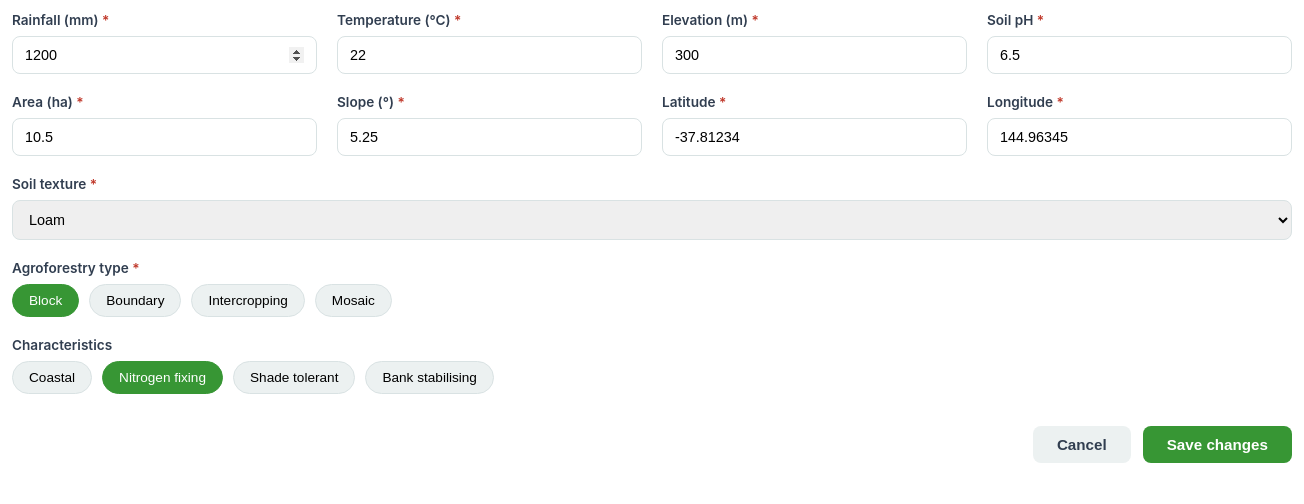
FarmEditForm › clears a validation error after correcting a field
Clear the number field showing "1200" at (164, 55), box [12,36,317,74]
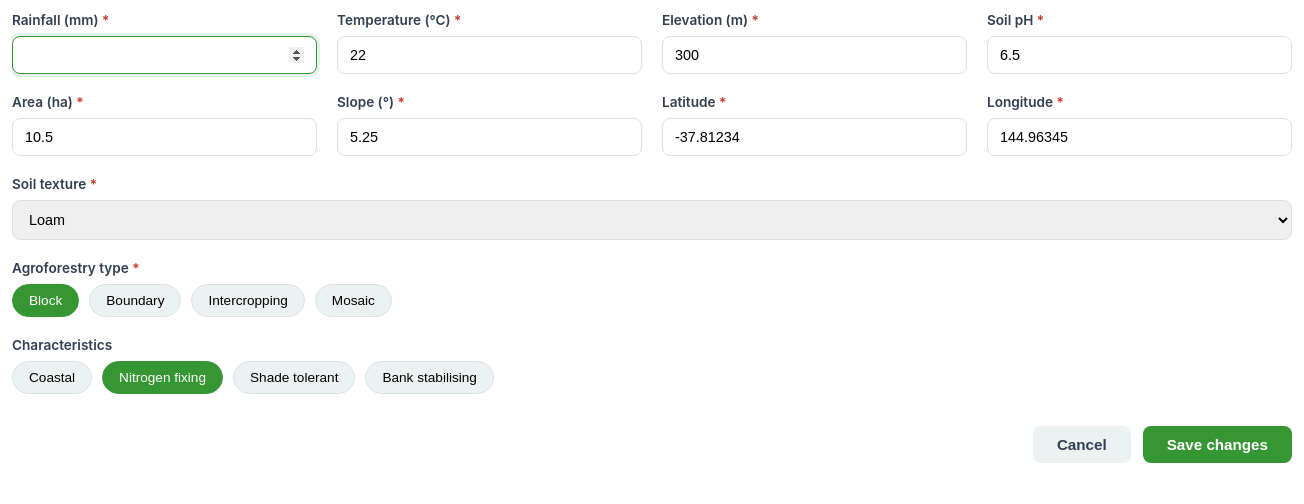
Click the button "Save changes" at (1217, 444), box [1143,426,1292,463]
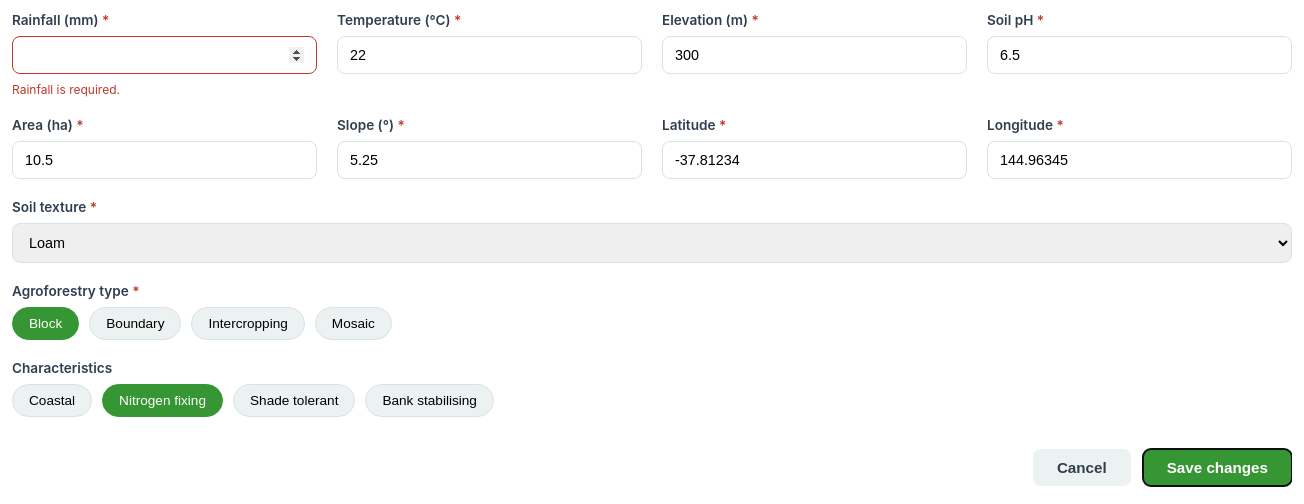
Check: the text "Rainfall is required." is shown, box [12,82,120,97]
Type "900" into the number field showing "1200" at (164, 55), box [12,36,317,74]
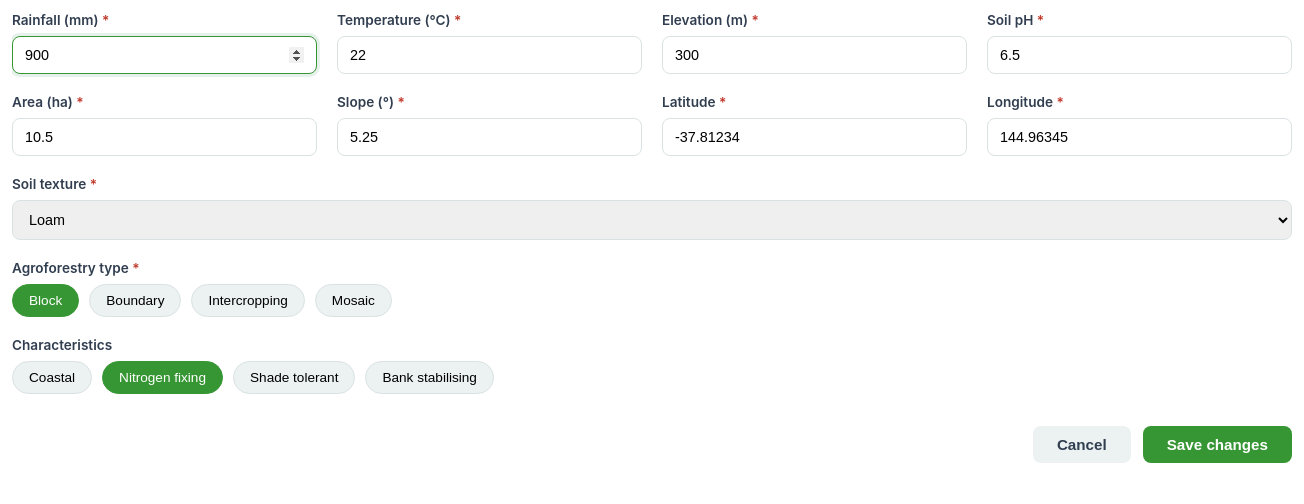
Check: the text "Rainfall is required" is gone
